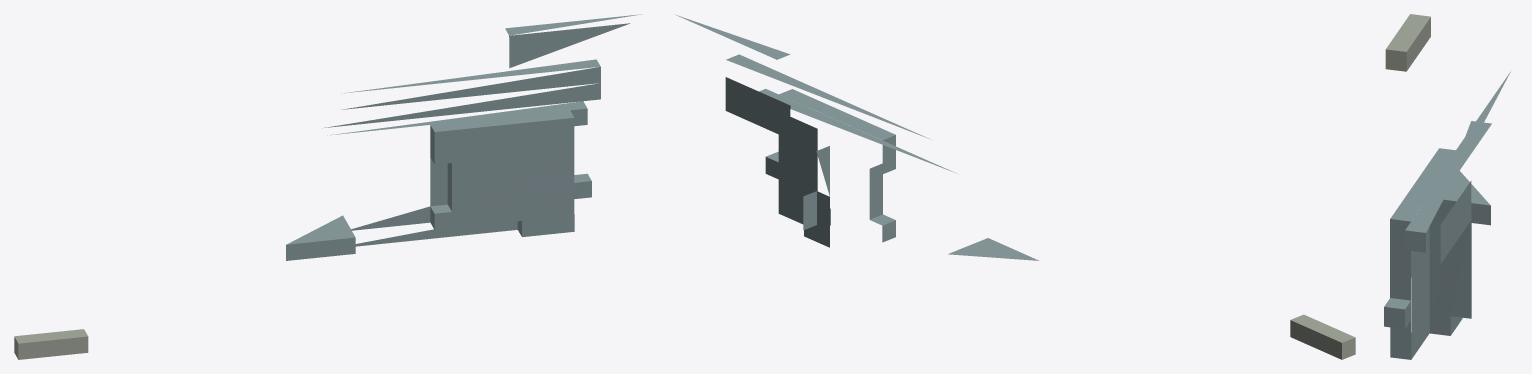
3 views of the same model, side by side, from view 1: azimuth 30°, elevation 25°; view 2: azimuth 150°, elevation 25°; view 3: azimuth 270°, elevation 25° (orthographic). The views are drawn at different scales.
Parts seen in each view (by area): view 1: measured-industrial; view 2: measured-industrial; view 3: measured-industrial.
Part boxes in pixels (left/top/right/bottom): measured-industrial: left=14, top=14, right=643, bottom=359; measured-industrial: left=675, top=14, right=1355, bottom=359; measured-industrial: left=1384, top=14, right=1510, bottom=359.
Bounding box in the file's own units: 61.61 × 16.55 × 9.2.
